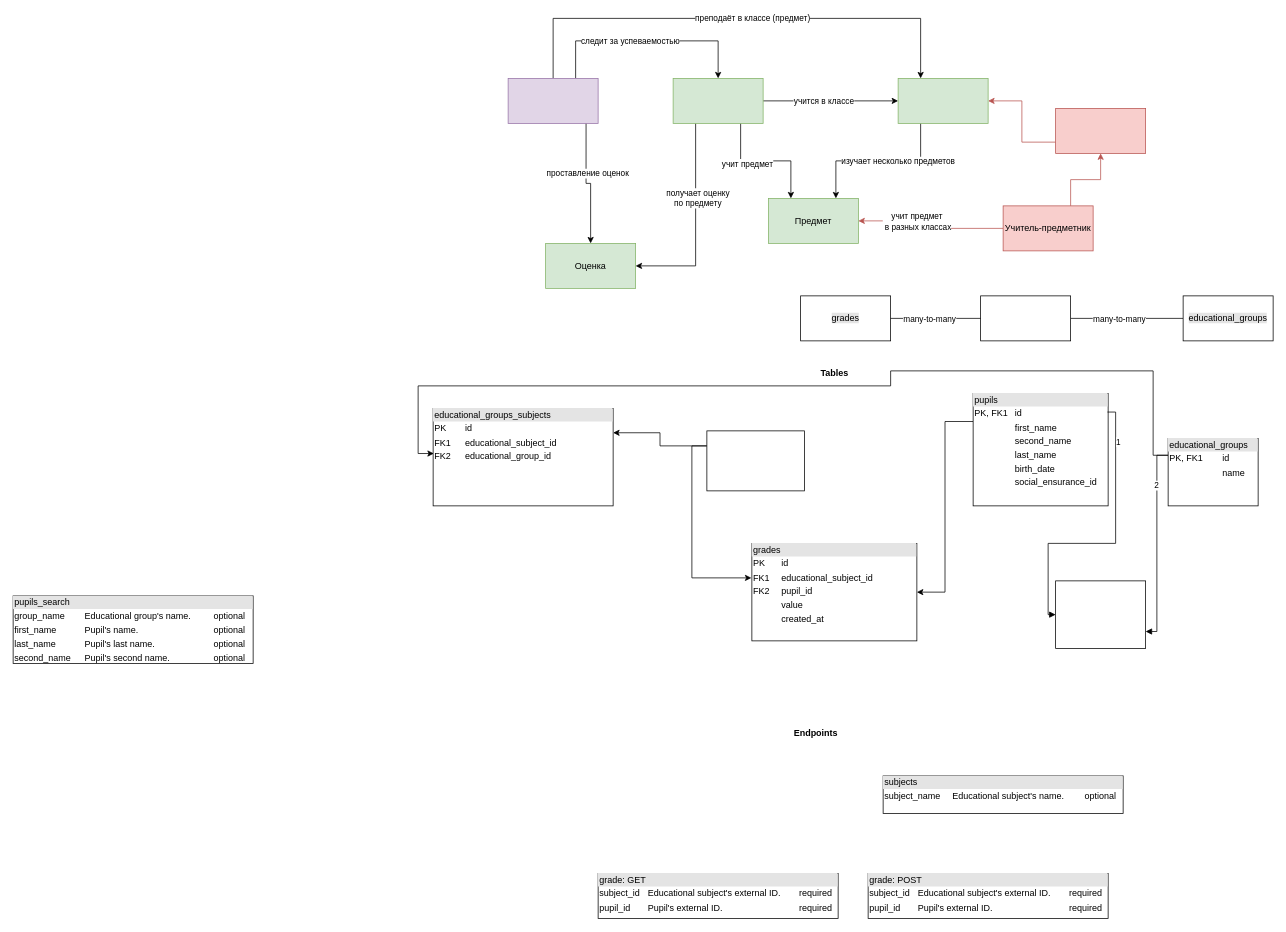
This 1286x932 diagram has some shape labels left out. The shapes that lost their labels are listed below. From the top down, each one's box as (x1, y1, x2, y2) in pixels, then its label:
(507, 78, 598, 123): Учитель начальных классов
(672, 78, 763, 123): Ученик
(897, 78, 988, 123): Класс
(1055, 108, 1146, 153): Расписание
(980, 295, 1071, 341): pupils
(706, 430, 804, 491): educational_subjects PK, FK1 id name
(1055, 580, 1146, 648): pupils_groups PK id FK1 pupil_id FK2 group_id
